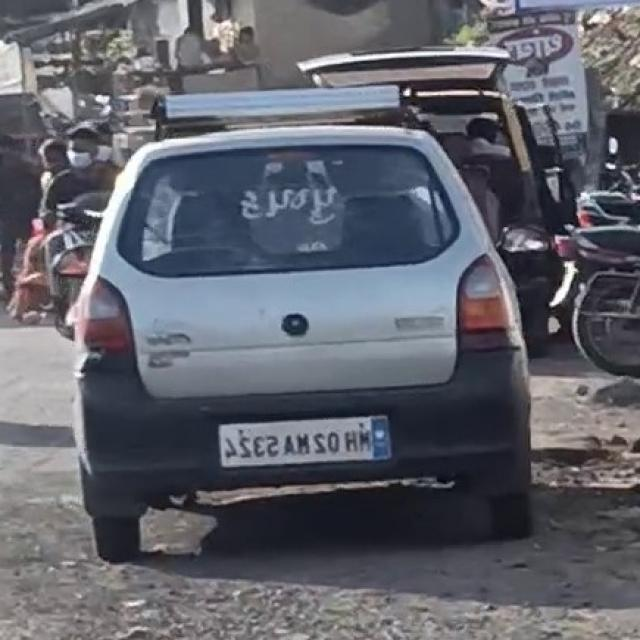license_plate: (212, 406, 400, 474)
